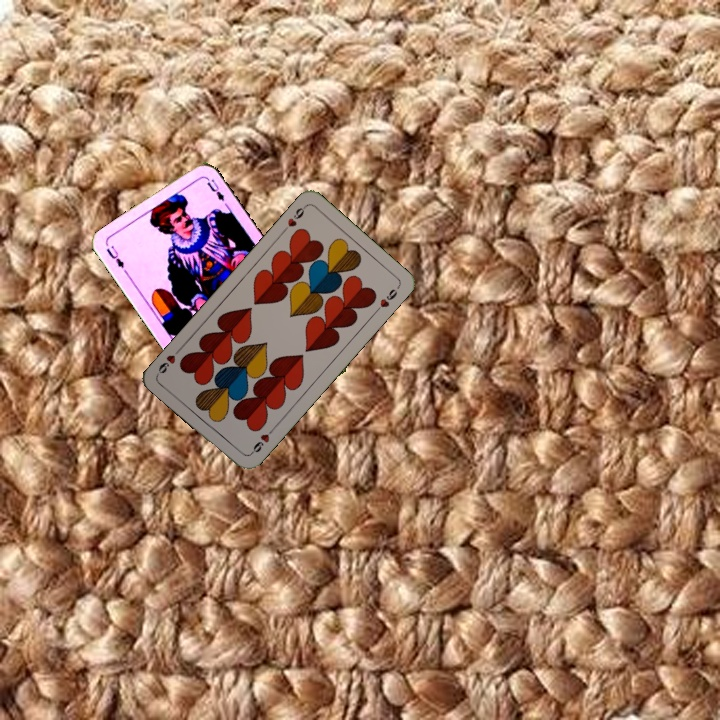EU: (102, 242, 127, 270)
H9: (278, 201, 309, 235), (246, 424, 277, 458)
